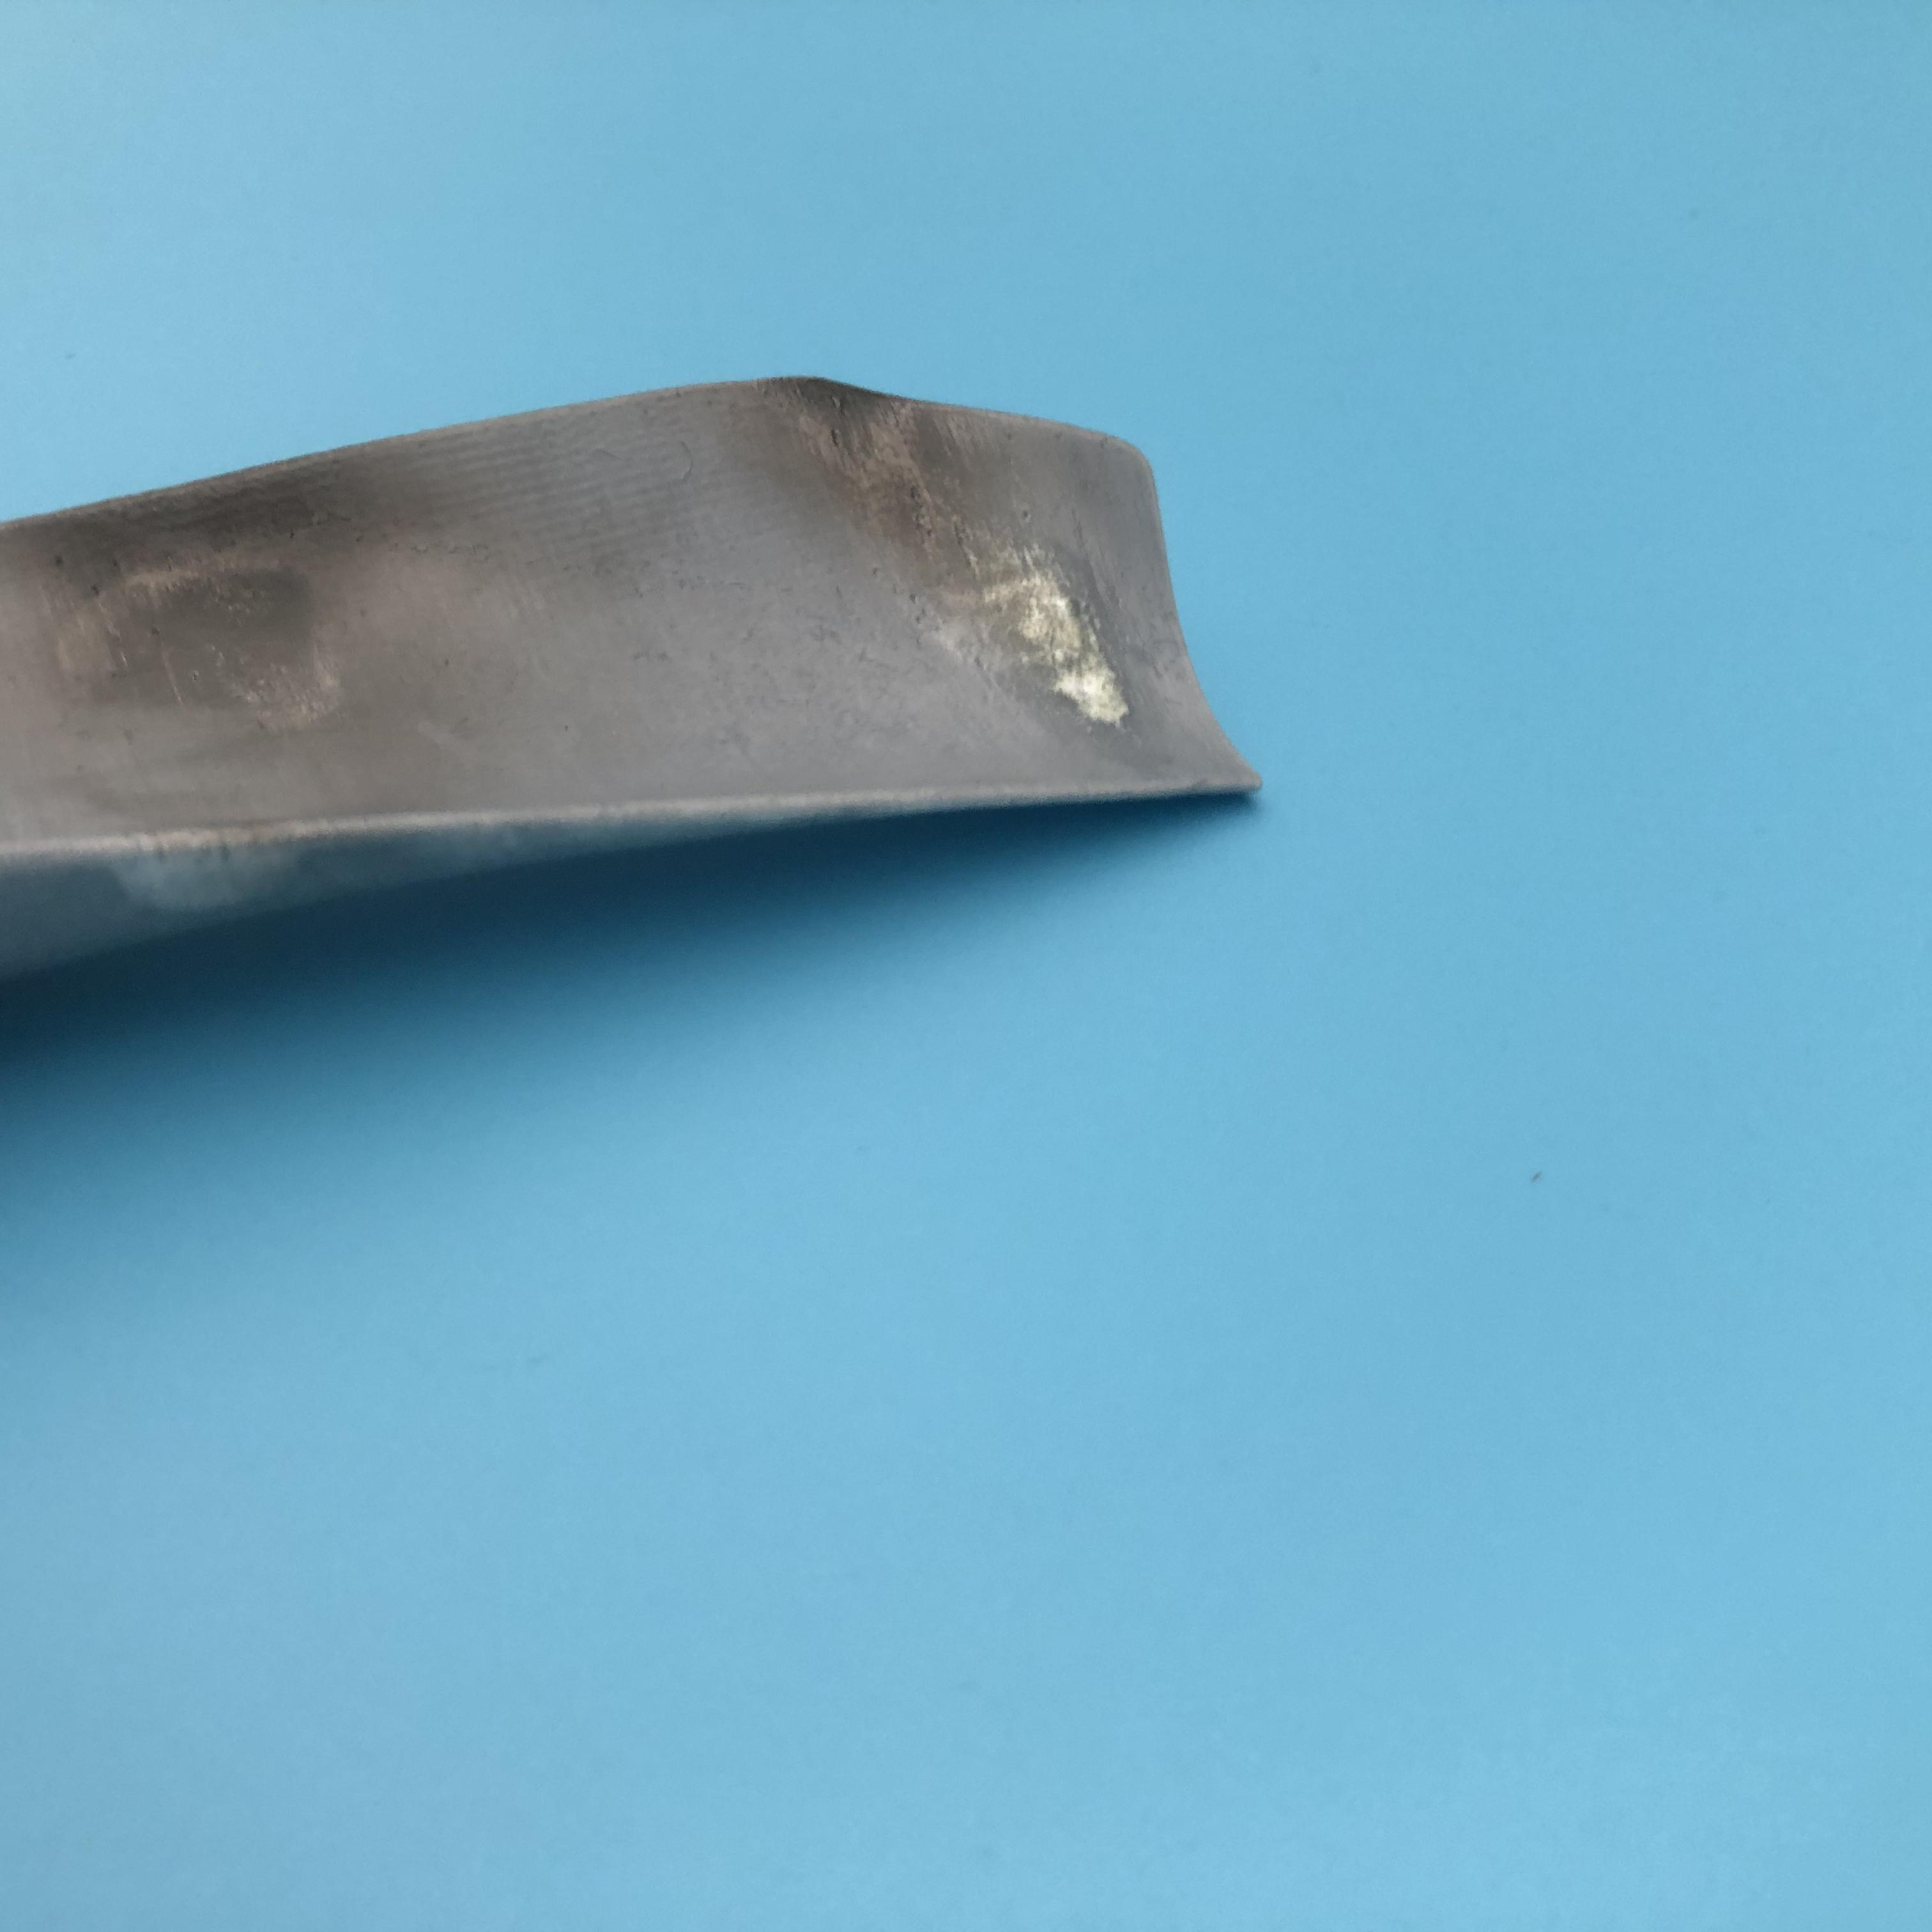ablation: (786, 380, 1143, 734), (30, 492, 481, 731)
